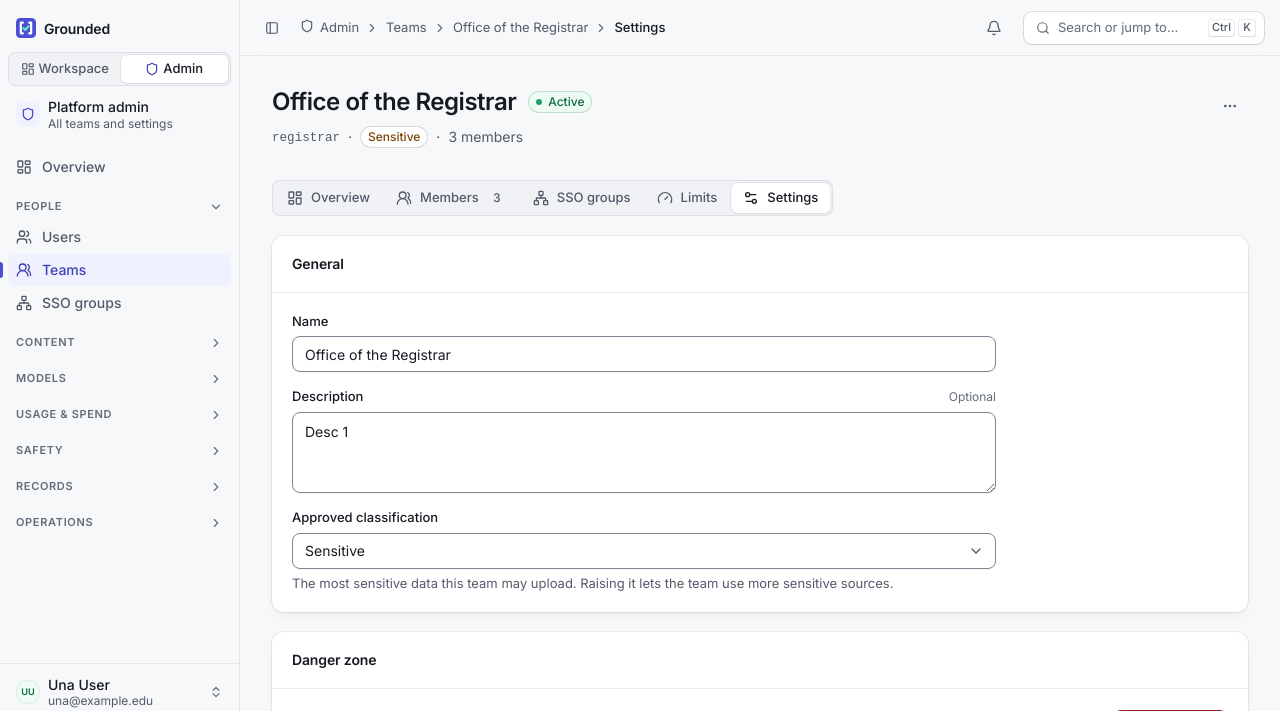
a settings form's save conflict (admin team settings) › keeps what was typed after a 412, shows what changed and overwrites on purpose
Replace the text in the text box labelled "Description" with "Desc A2 important": (644, 453) [292,412,996,493]
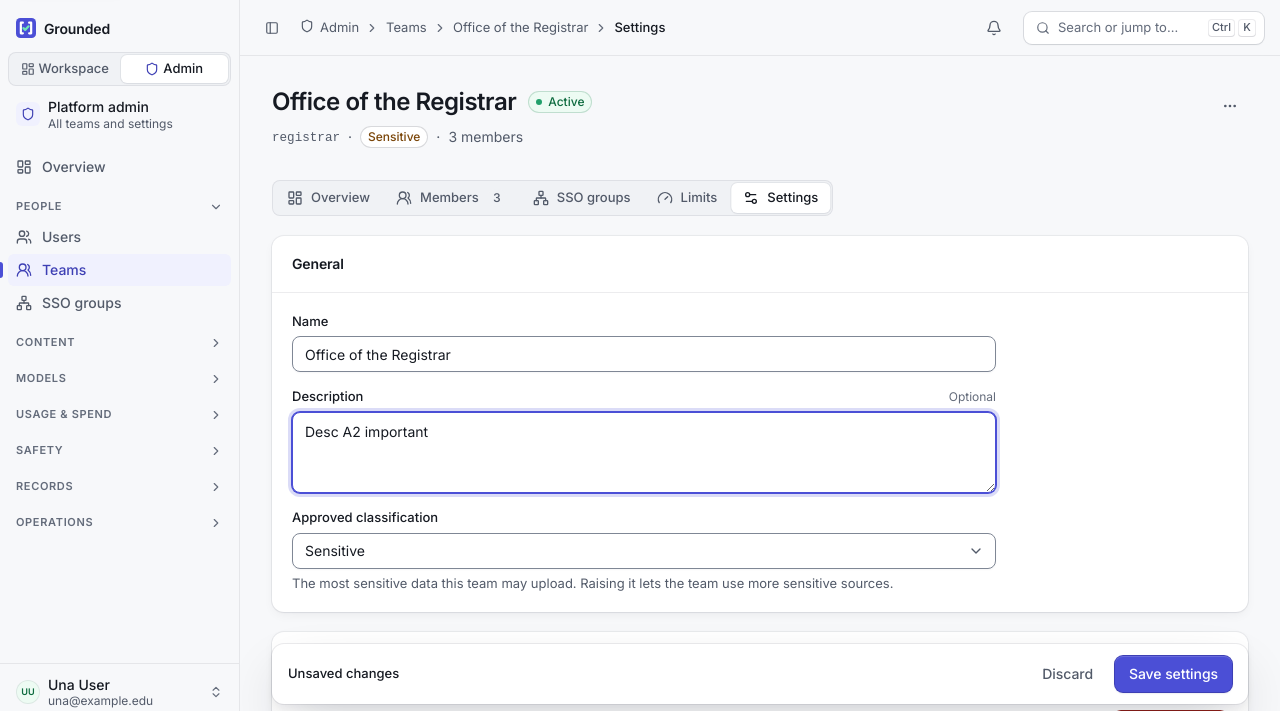
Click the button "Save settings": (1174, 674) [1115,656,1232,692]
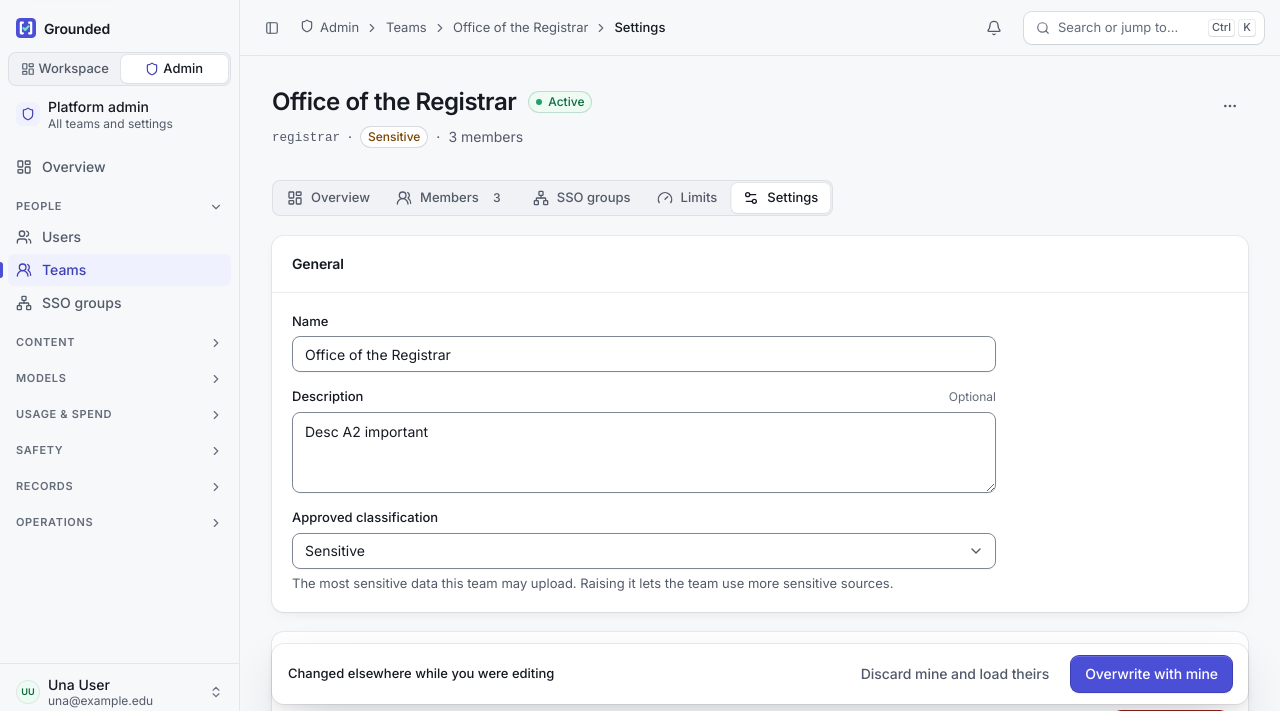
Click the button "Overwrite with mine": (1152, 674) [1071,656,1232,692]
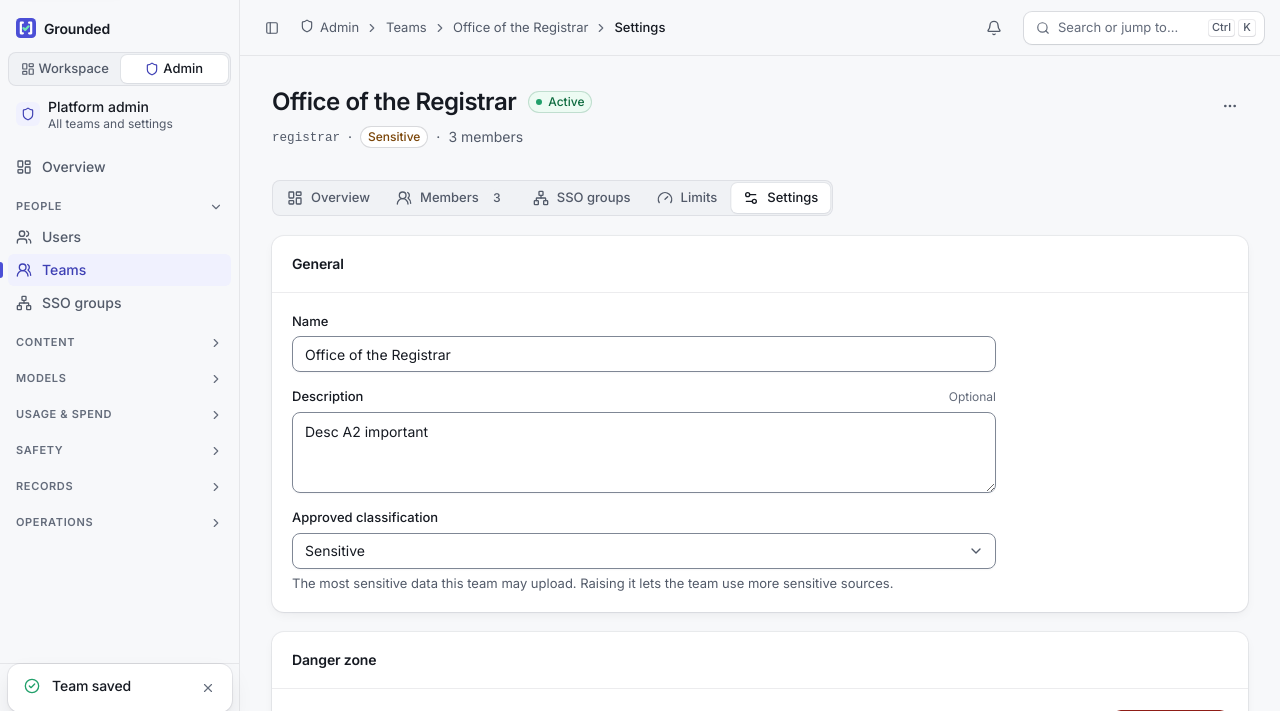
expect the button "Save settings" is not shown: met
expect the message "Changed elsewhere" is gone: met
